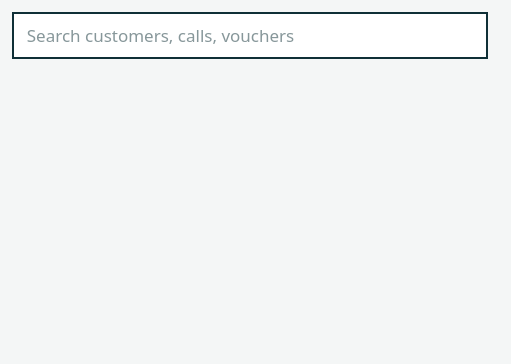
Scenario: GlobalSearch › closes and clears on Escape
This screenshot has width=511, height=364.
In the dropdown named "Search customers, calls and vouchers": (250, 35) x1=12 y1=12 x2=488 y2=59, type "rohan"
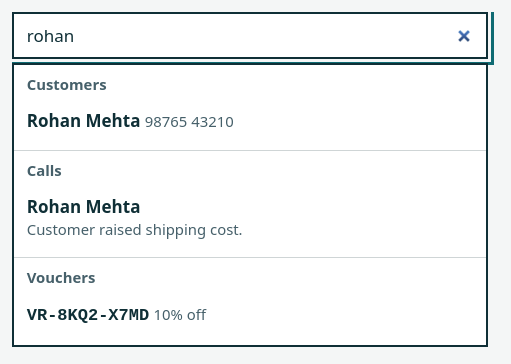
Expected: the element "Customers" is shown, x1=14 y1=65 x2=486 y2=151
Press Escape
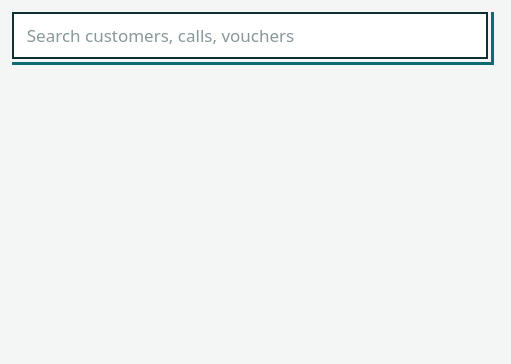
Expected: the dropdown named "Search customers, calls and vouchers" is empty, x1=12 y1=12 x2=488 y2=59
